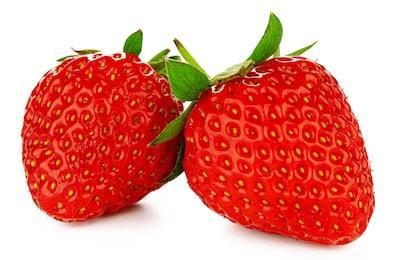Fresa: (178, 48, 383, 252), (15, 46, 195, 228)
